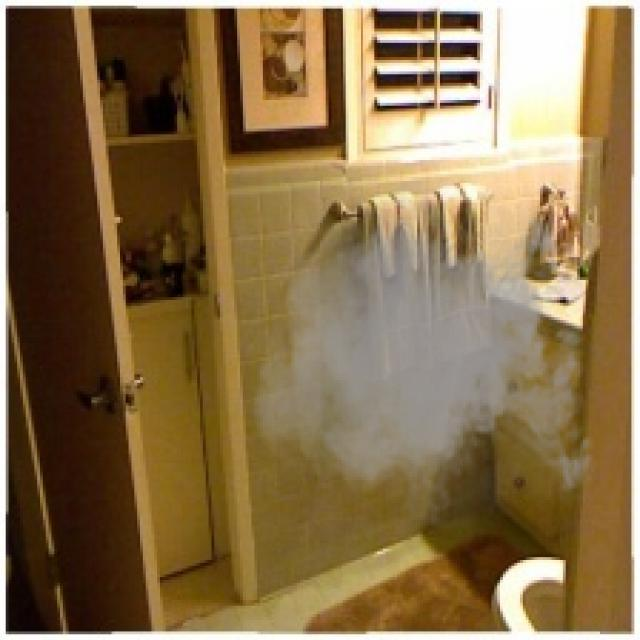Smoke: (248, 160, 603, 549)
